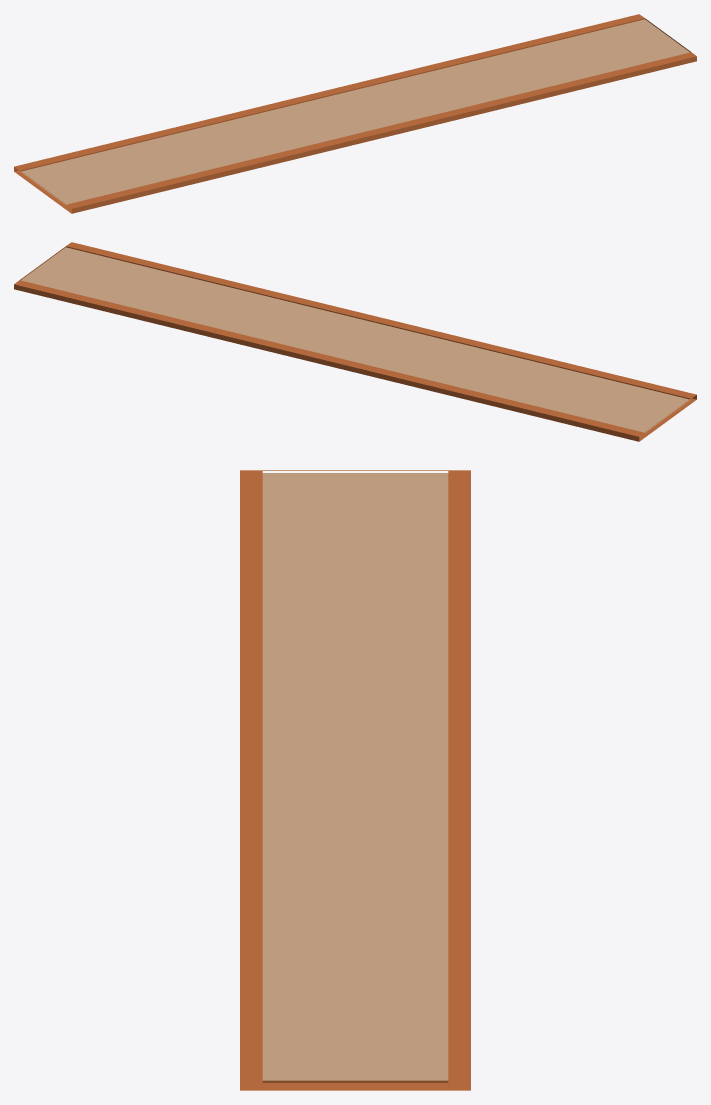
The model's file is platform_2_yeni.fbx.
3 renders of one model, top to bottom at view 1: azimuth 30°, elevation 25°; view 2: azimuth 150°, elevation 25°; view 3: azimuth 270°, elevation 25°, orthographic. The views are drawn at different scales.
Visible parts, largest first — view 1: Cube, Cube.001; view 2: Cube, Cube.001; view 3: Cube, Cube.001.
Boxes of the visible parts, bbox=[...] form: Cube: bbox=[14, 18, 690, 213]; Cube.001: bbox=[14, 14, 696, 213]; Cube: bbox=[20, 246, 696, 441]; Cube.001: bbox=[14, 242, 696, 441]; Cube: bbox=[240, 470, 470, 1090]; Cube.001: bbox=[240, 470, 470, 1080].
Size of the model in its own units: 3540 by 26.87 by 566.
